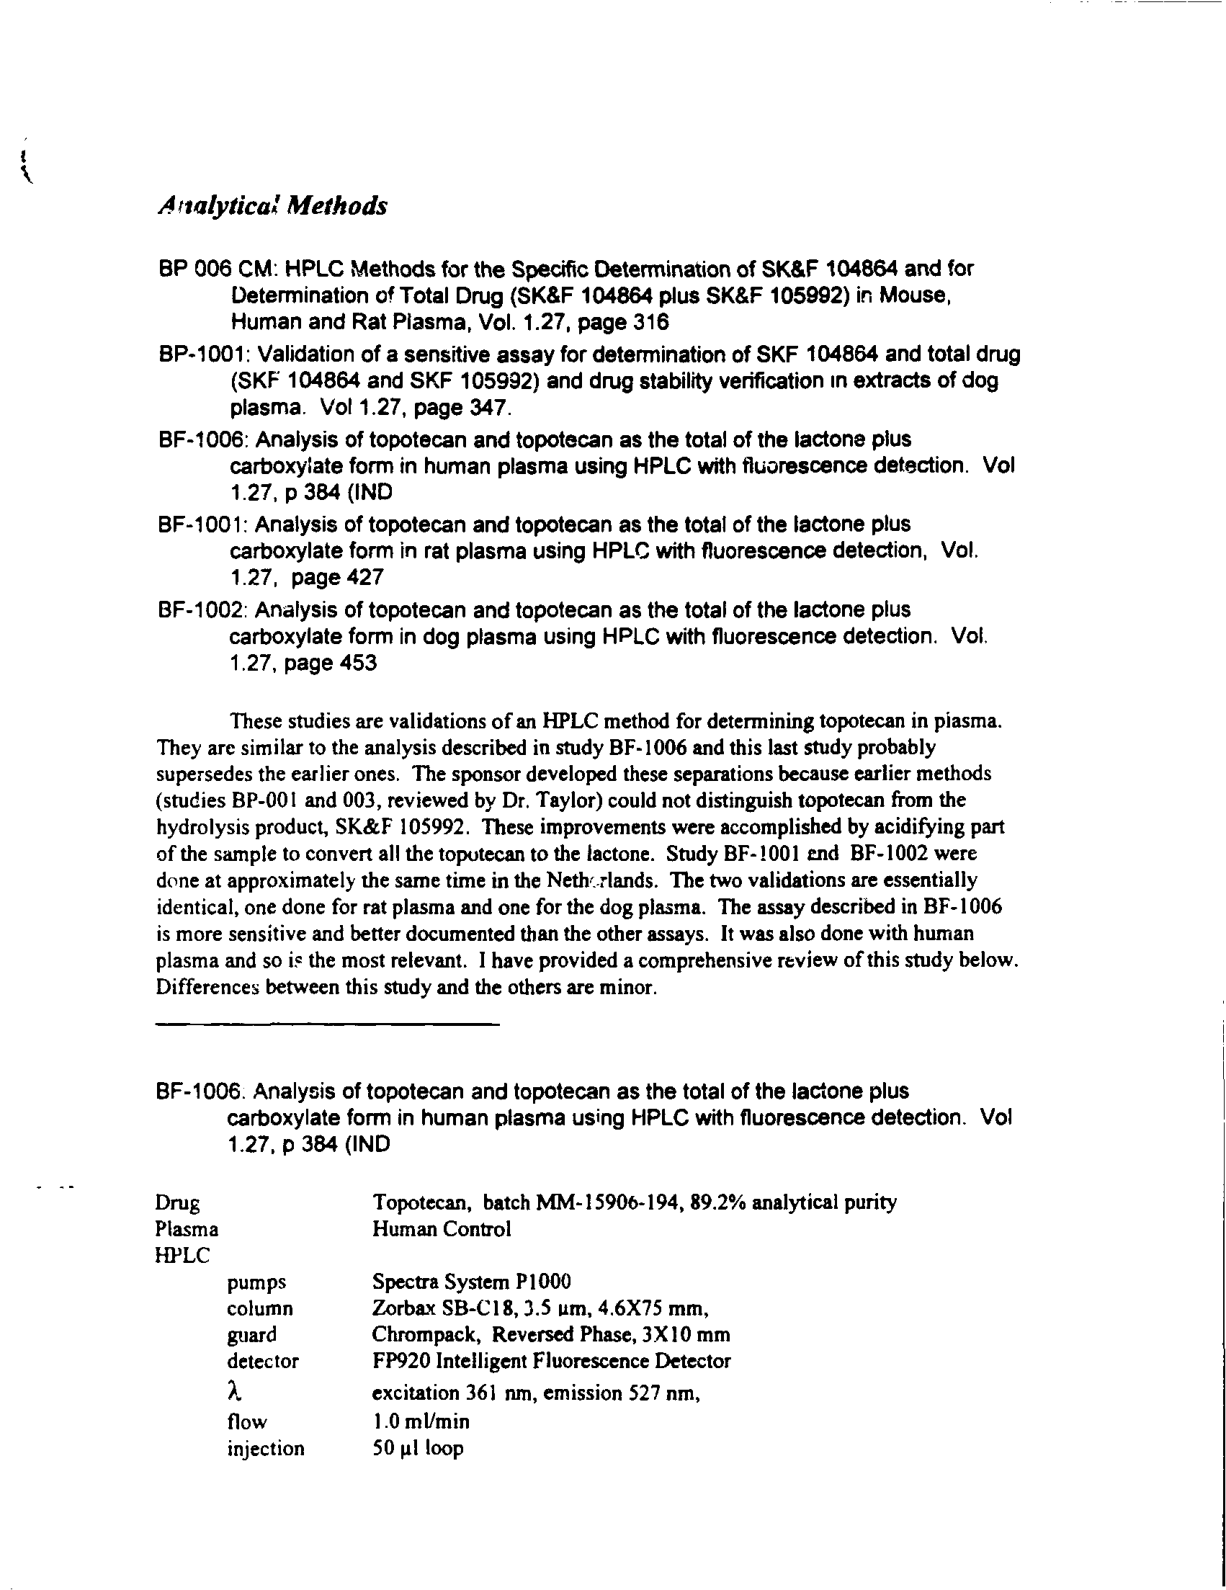nolines: (148, 1188, 899, 1463)
